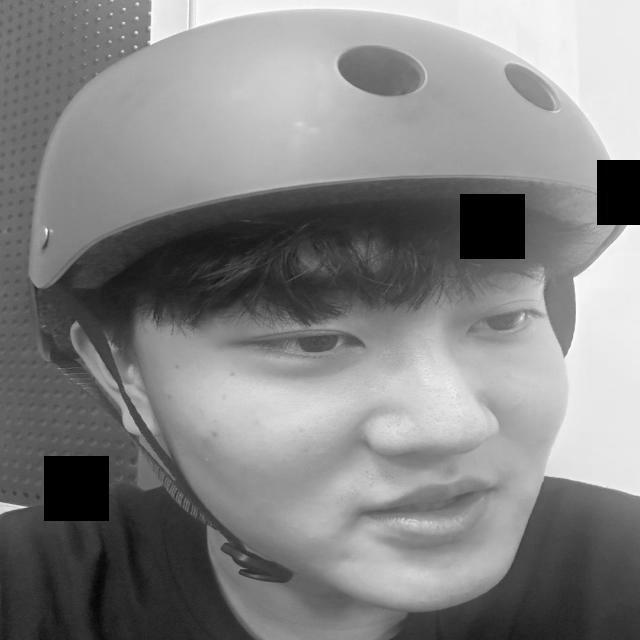helmet: (0, 2, 619, 303)
